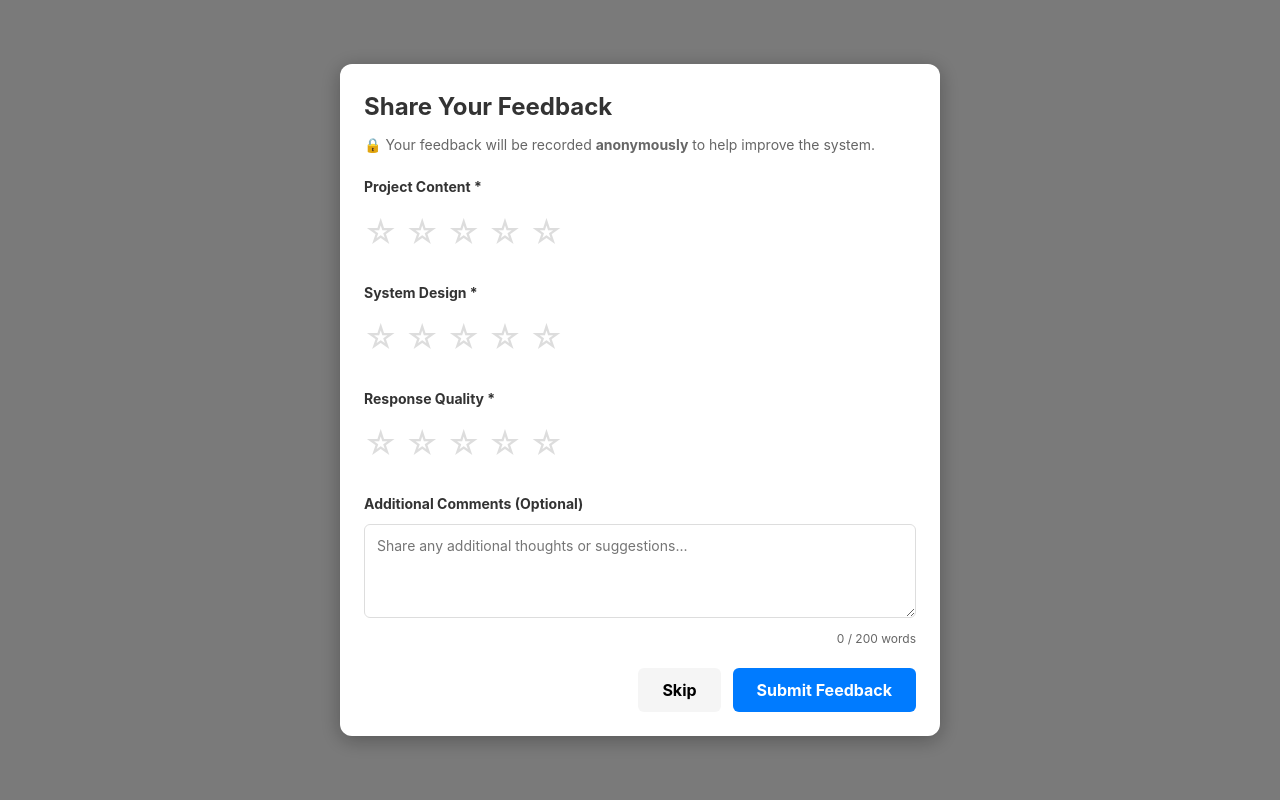
Test: FeedbackModal › Error Handling › shows server error when submission fails
Click the 5th text "☆" at (546, 232), box [530,207,563,258]
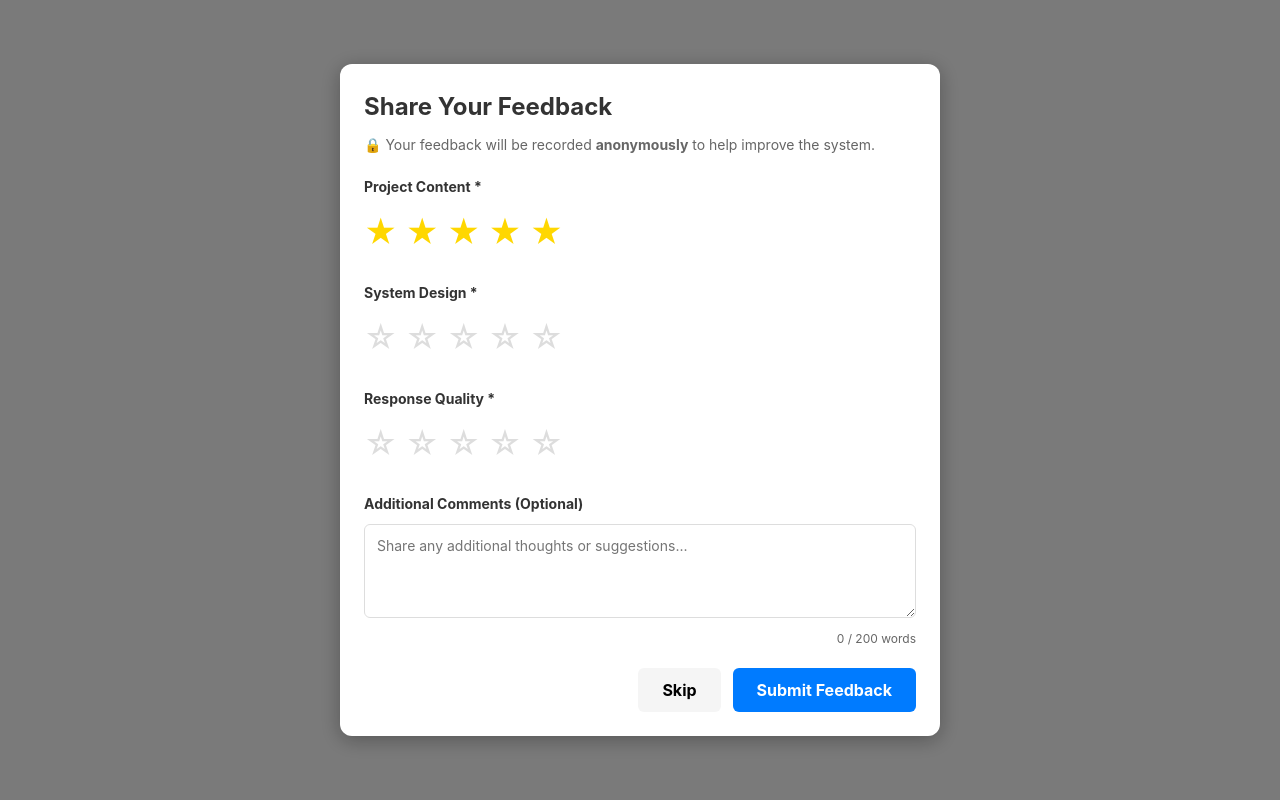
Click the 5th text "☆" at (546, 338), box [530,312,563,364]
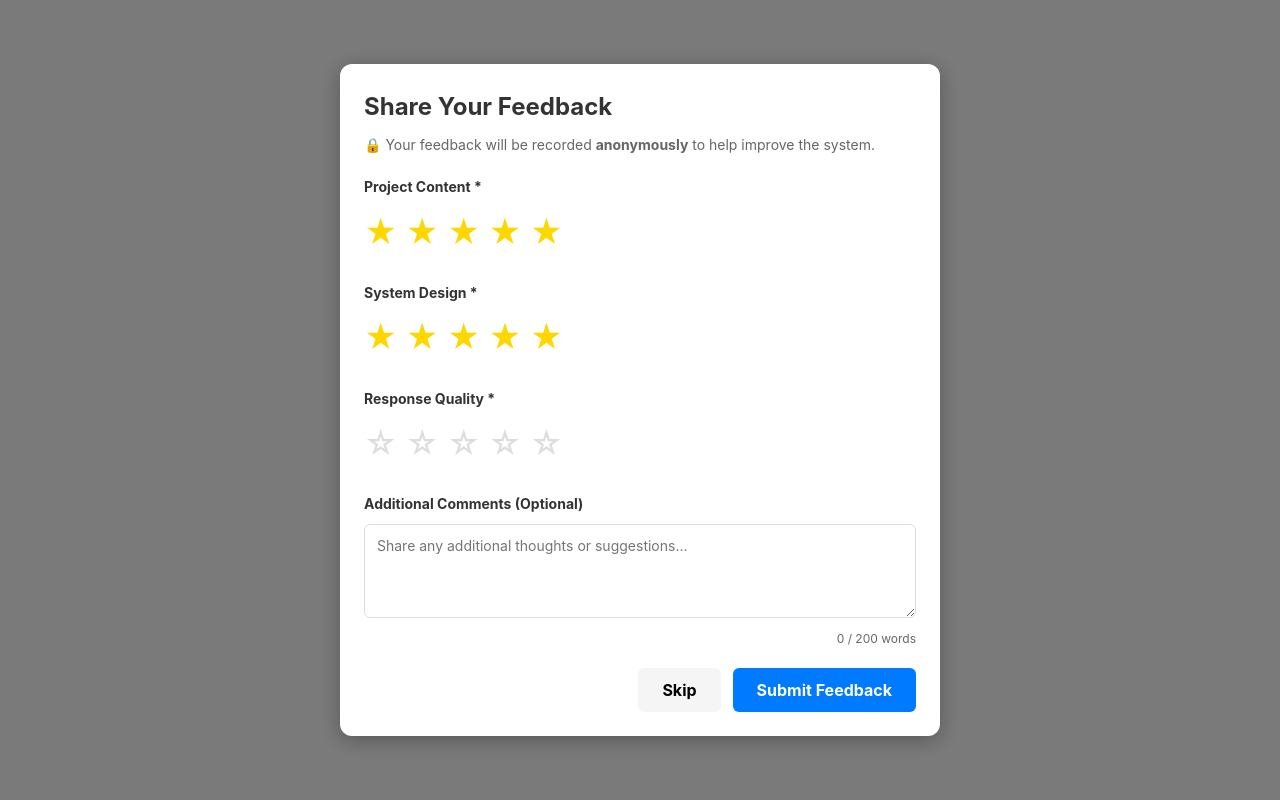
Click the 5th text "☆" at (546, 444), box [530,418,563,469]
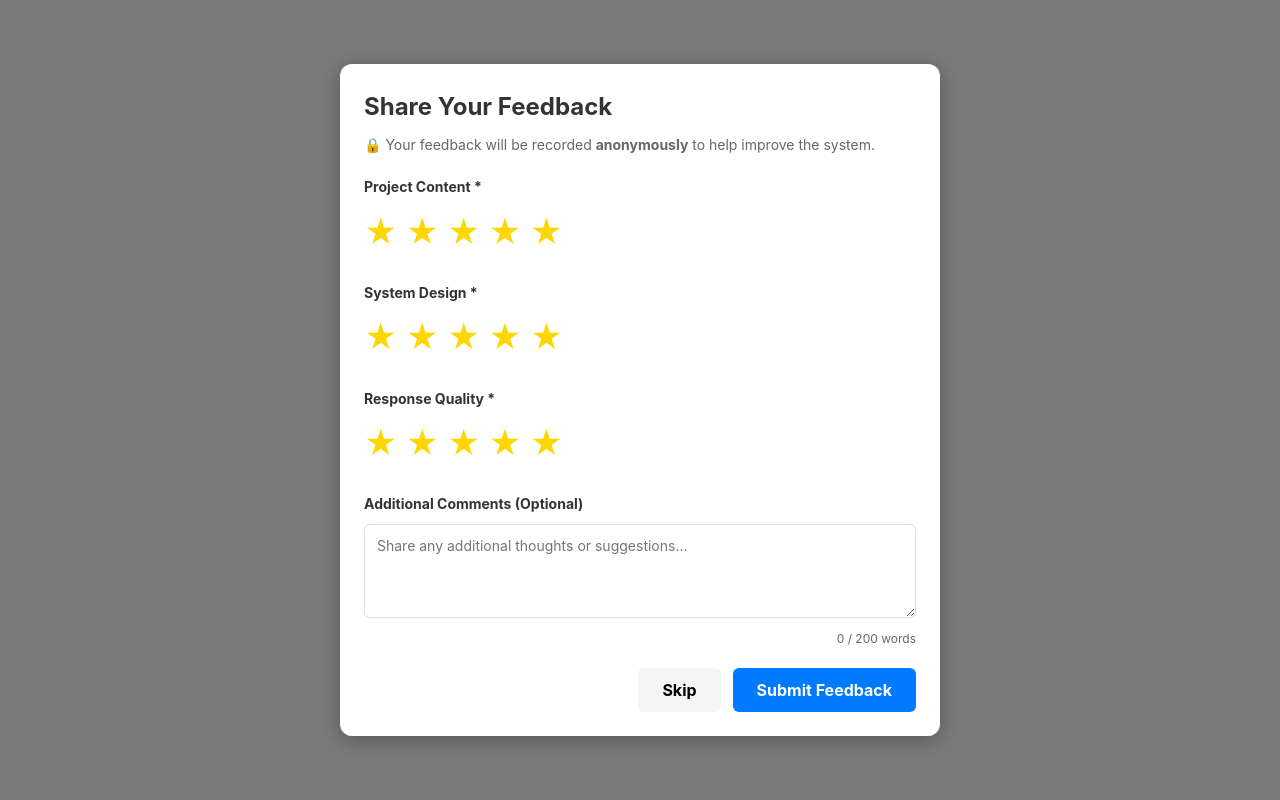
Click the button "Submit Feedback" at (824, 690), box [733,668,916,712]
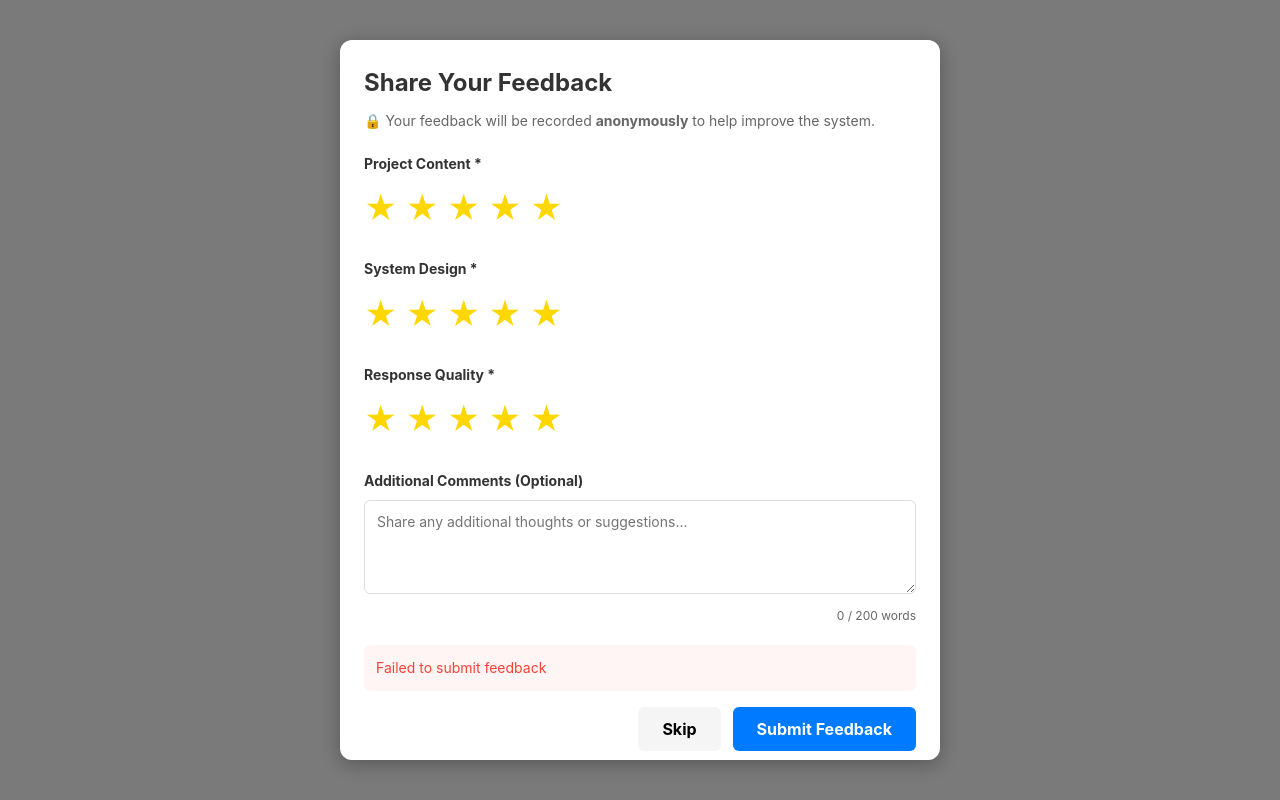
Result: the text "Failed to submit feedback" is shown at [364,645,916,691]
